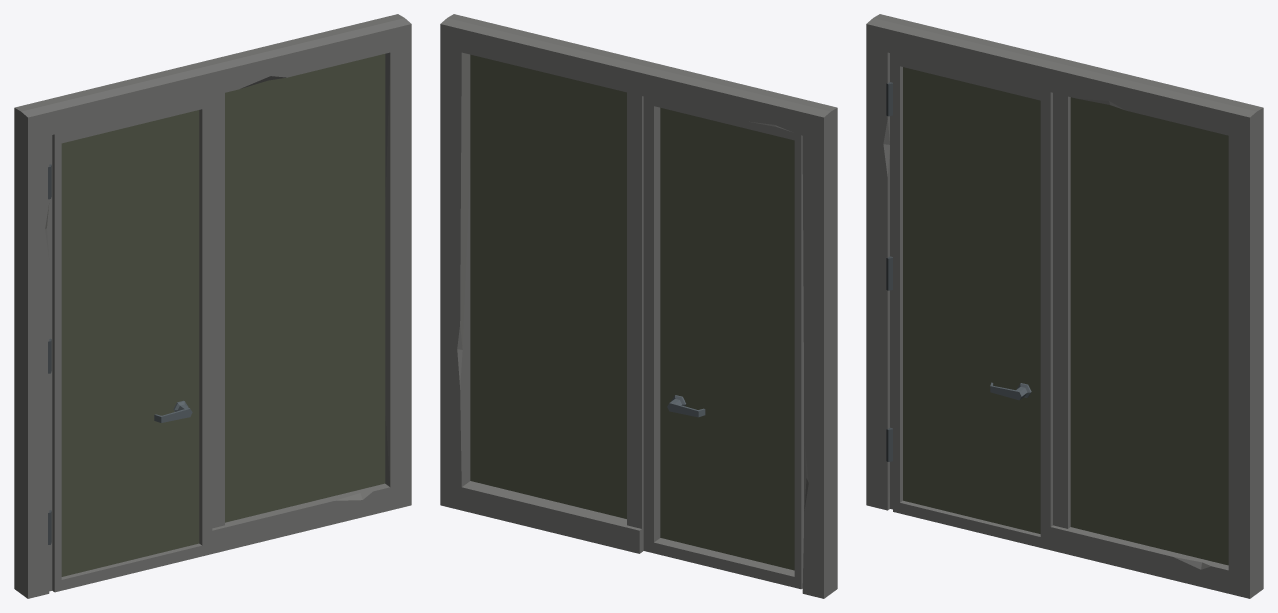
File: SM_Bld_Wall_Glass_Door_01.glb
3 renders of one model, left to right at view 1: azimuth 30°, elevation 25°; view 2: azimuth 150°, elevation 25°; view 3: azimuth 330°, elevation 25°, orthographic.
Parts seen in each view (by area): view 1: SM_Bld_Wall_Glass_Door_01_Glass, SM_Bld_Glass_Door_01_Glass, SM_Bld_Wall_Glass_Door_01, SM_Bld_Glass_Door_01; view 2: SM_Bld_Wall_Glass_Door_01_Glass, SM_Bld_Glass_Door_01_Glass, SM_Bld_Wall_Glass_Door_01, SM_Bld_Glass_Door_01; view 3: SM_Bld_Wall_Glass_Door_01_Glass, SM_Bld_Glass_Door_01_Glass, SM_Bld_Wall_Glass_Door_01, SM_Bld_Glass_Door_01.
Boxes of the visible parts, left/top/right/bottom form: SM_Bld_Wall_Glass_Door_01_Glass: left=225, top=54, right=385, bottom=522; SM_Bld_Glass_Door_01_Glass: left=61, top=110, right=199, bottom=576; SM_Bld_Wall_Glass_Door_01: left=14, top=14, right=411, bottom=598; SM_Bld_Glass_Door_01: left=47, top=96, right=212, bottom=592; SM_Bld_Wall_Glass_Door_01_Glass: left=470, top=54, right=626, bottom=518; SM_Bld_Glass_Door_01_Glass: left=660, top=107, right=794, bottom=570; SM_Bld_Wall_Glass_Door_01: left=440, top=14, right=837, bottom=598; SM_Bld_Glass_Door_01: left=643, top=96, right=806, bottom=589; SM_Bld_Wall_Glass_Door_01_Glass: left=1070, top=97, right=1228, bottom=565; SM_Bld_Glass_Door_01_Glass: left=903, top=67, right=1040, bottom=533; SM_Bld_Wall_Glass_Door_01: left=866, top=14, right=1263, bottom=598; SM_Bld_Glass_Door_01: left=886, top=53, right=1052, bottom=550.
Bounding box in the file's own units: 2.5 × 3 × 0.2067.
Materials: 4 (4 with a texture image).
